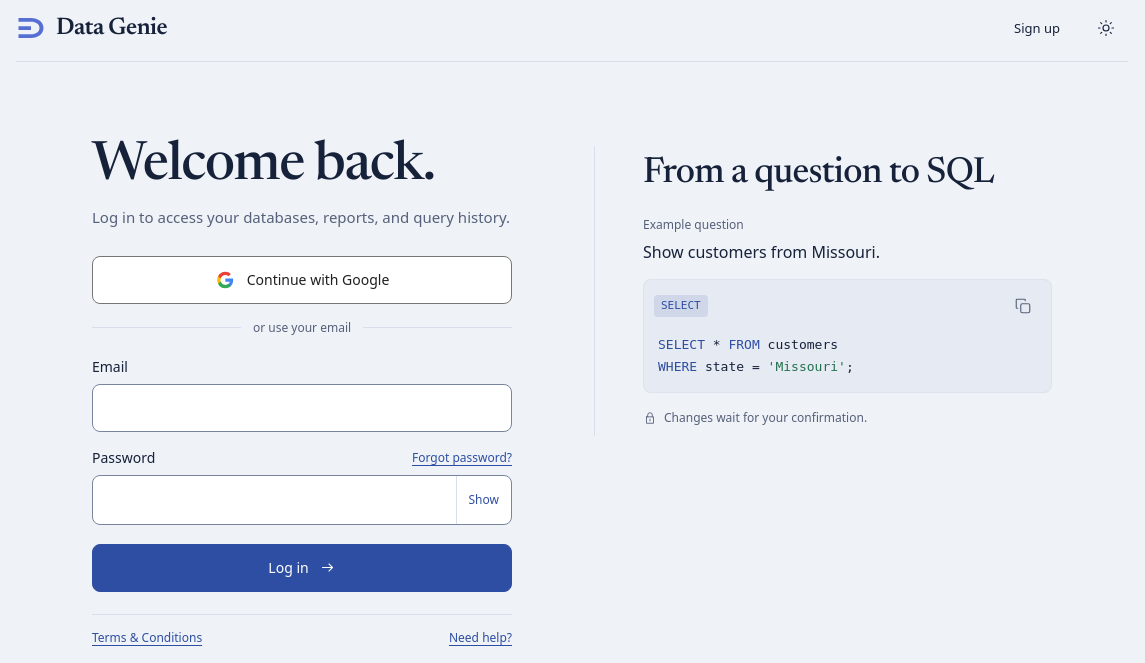
Test: Google sign-in › does not redirect or clear the saved workspace while password login is pending
Later steps or results of the test are not shown.
In the field labelled "Email": [302, 408] box [92, 384, 512, 432], type "ana@example.test"
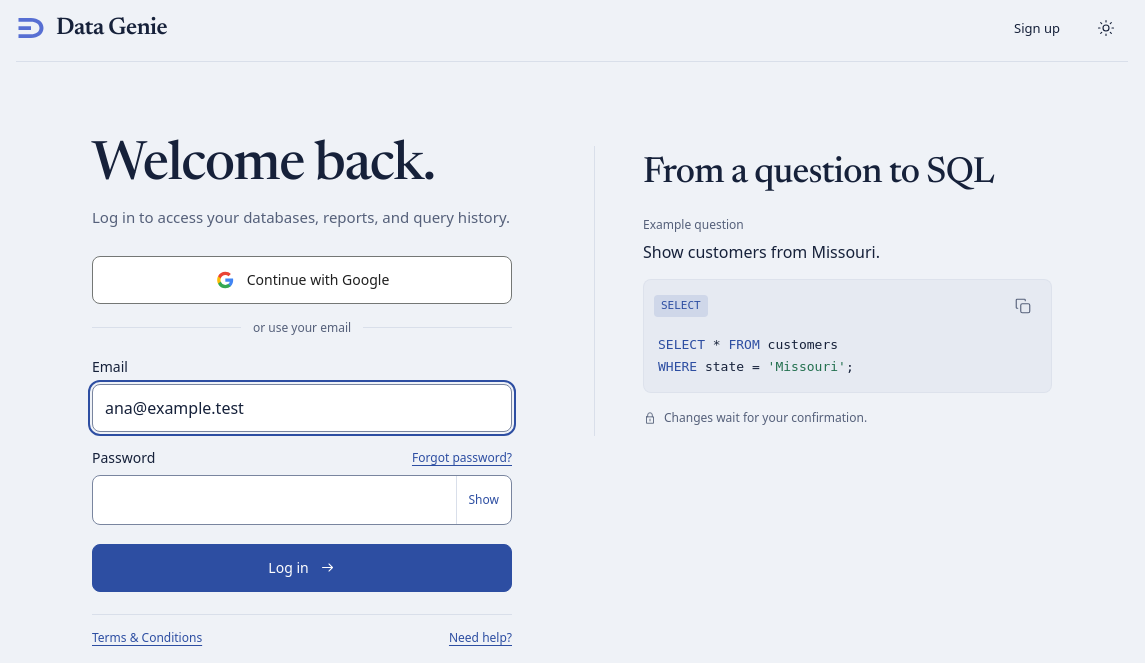
In the password field labelled "Password": [274, 500] box [93, 476, 456, 524], type "current passphrase"
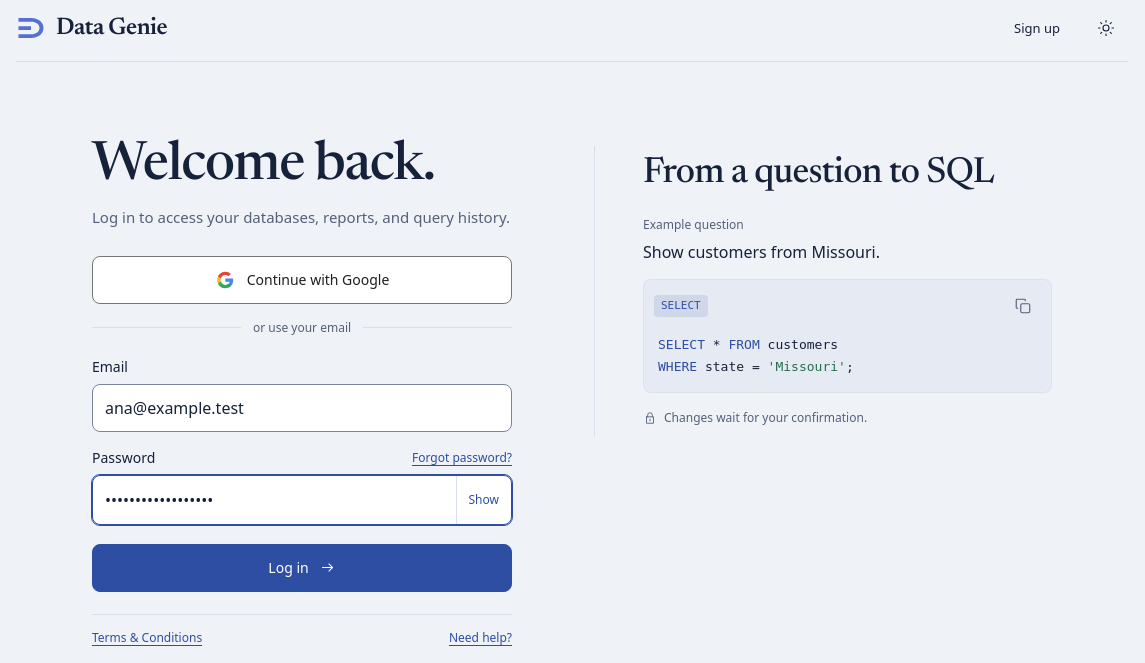
Click the button "Log in": [302, 568] box [92, 544, 512, 592]
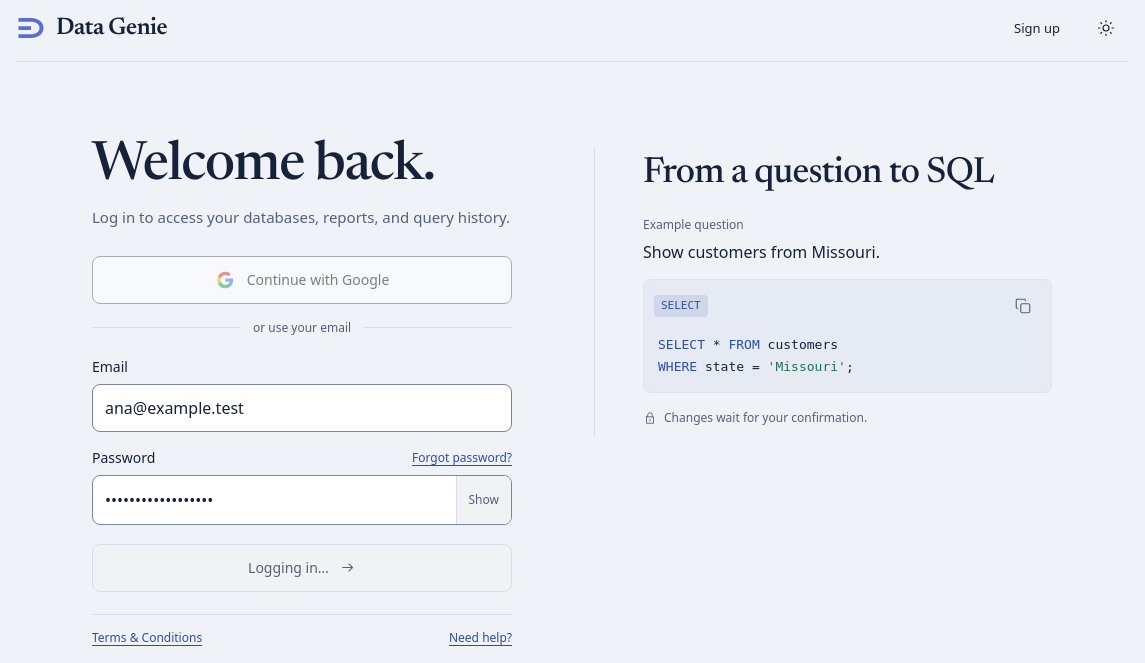
Check: the link "Continue with Google" is disabled, box [92, 256, 512, 304]
